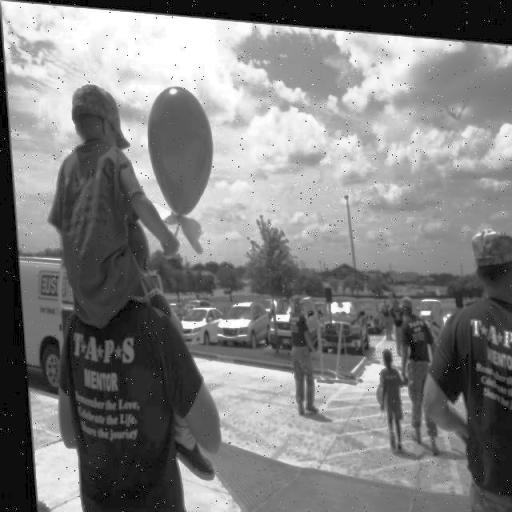balloon: (145, 81, 216, 217), (369, 376, 383, 402), (382, 282, 389, 297)
